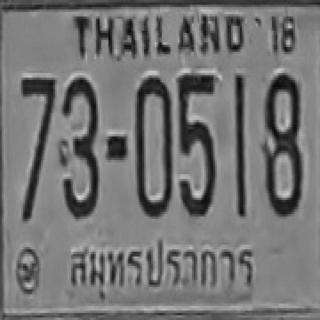N00: (134, 75, 172, 214)
N01: (234, 74, 244, 208), (234, 74, 244, 196)
N03: (58, 75, 99, 217)
N05: (176, 72, 215, 215)
N07: (20, 75, 55, 212), (20, 75, 55, 184), (20, 75, 55, 160)
N08: (262, 72, 300, 215)
P57: (64, 231, 260, 306)
